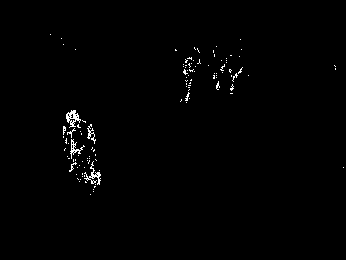person: (61, 108, 103, 198), (183, 48, 201, 102)
